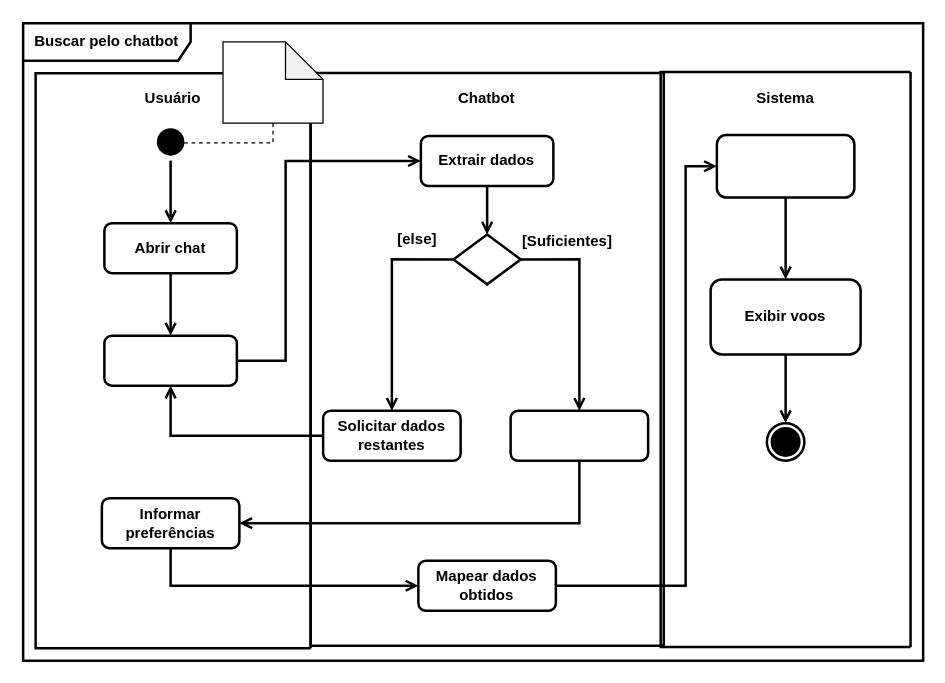
Some shapes in this 945 by 683 pixel diagram are drawn without their labels. The shapes that lost their labels are listed below. From the top down, each one's centre as x and y in pixels, then its label:
(x=272, y=82): Logado
(x=785, y=165): Requisitar viagens da API
(x=170, y=360): Informar dados de viagem
(x=579, y=435): Perguntar preferências
